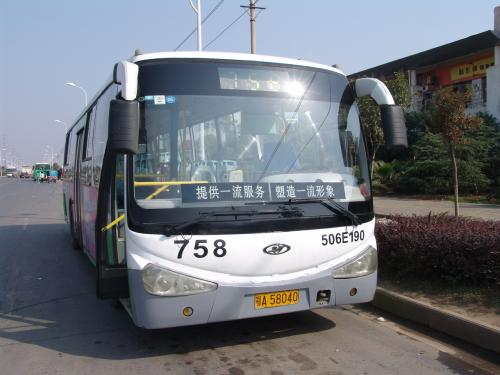bus: (52, 54, 408, 345)
